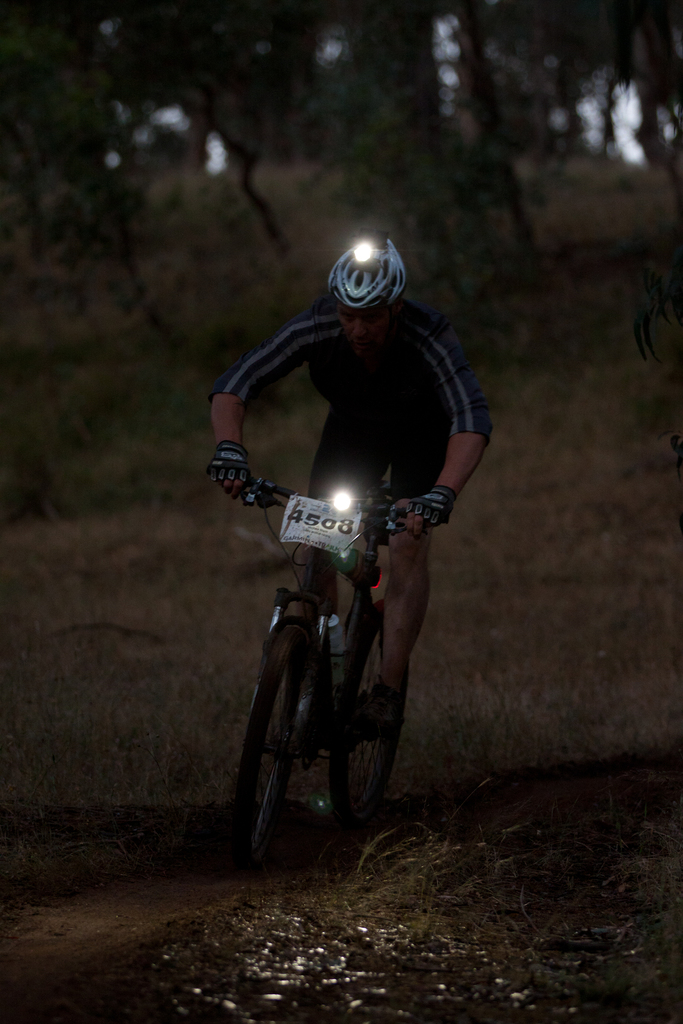Bike_toward: (199, 450, 454, 859)
